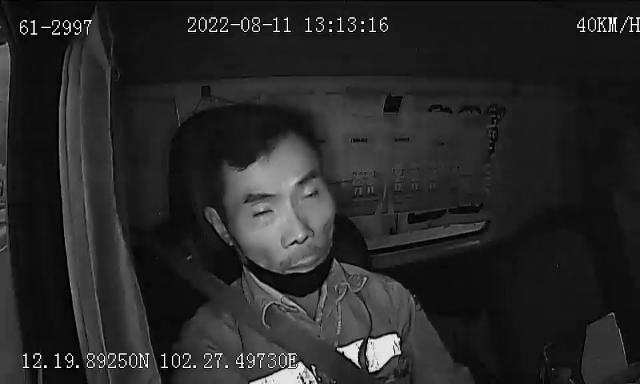SafeDriving: (418, 97, 464, 122), (295, 177, 325, 210), (247, 197, 280, 222)
Seatbelt: (140, 230, 388, 384)
